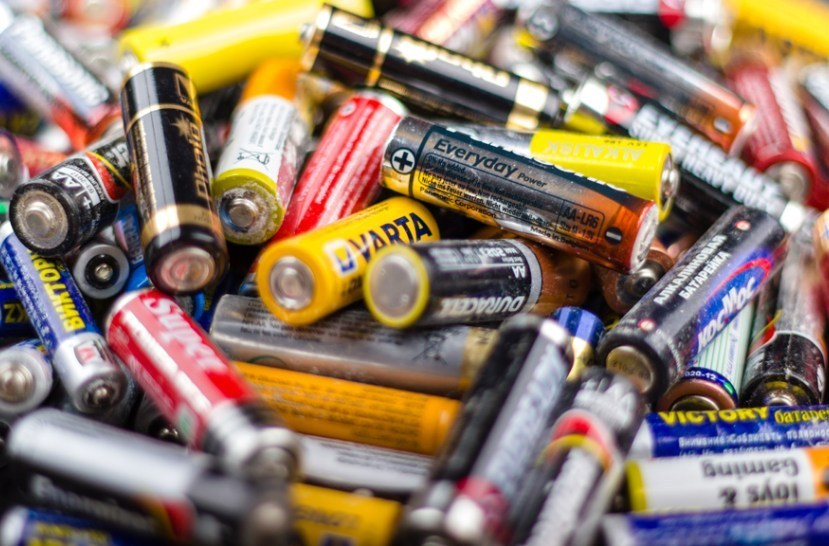Battery: (377, 111, 661, 275), (593, 201, 795, 404), (292, 1, 571, 137), (115, 53, 231, 298), (207, 52, 313, 245)
